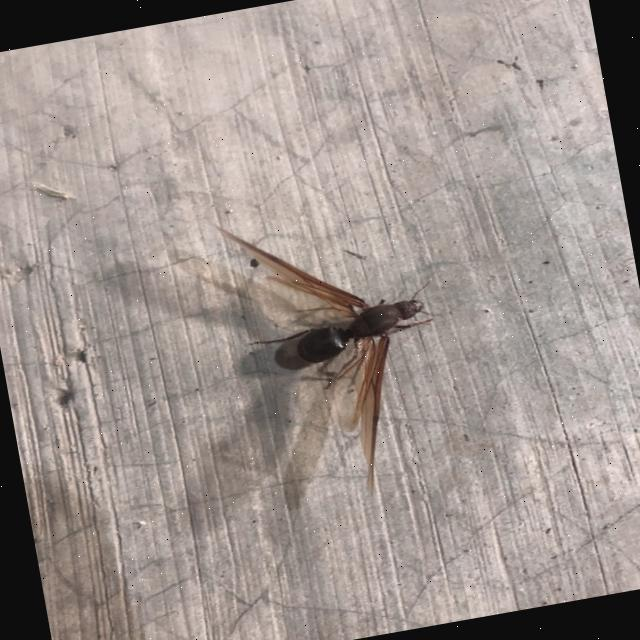Alive-Male-Alate: (214, 188, 472, 516)
